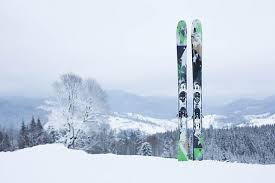skis: (173, 19, 206, 163)
